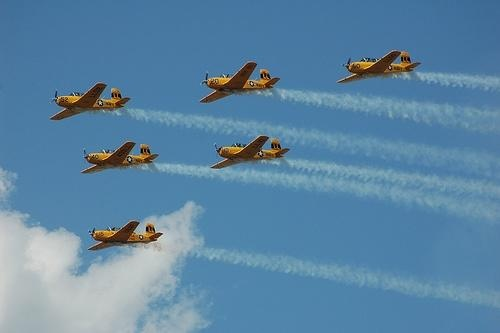aeroplane: (198, 61, 278, 105), (47, 83, 132, 120), (336, 49, 418, 85), (210, 135, 291, 170), (81, 140, 160, 175), (87, 220, 164, 254)
